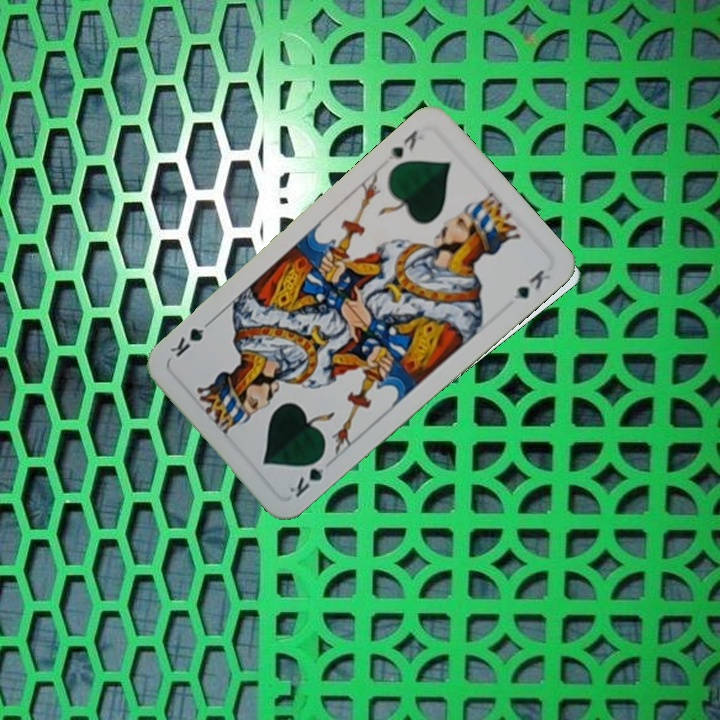GK: (285, 450, 328, 500), (379, 126, 427, 168)
